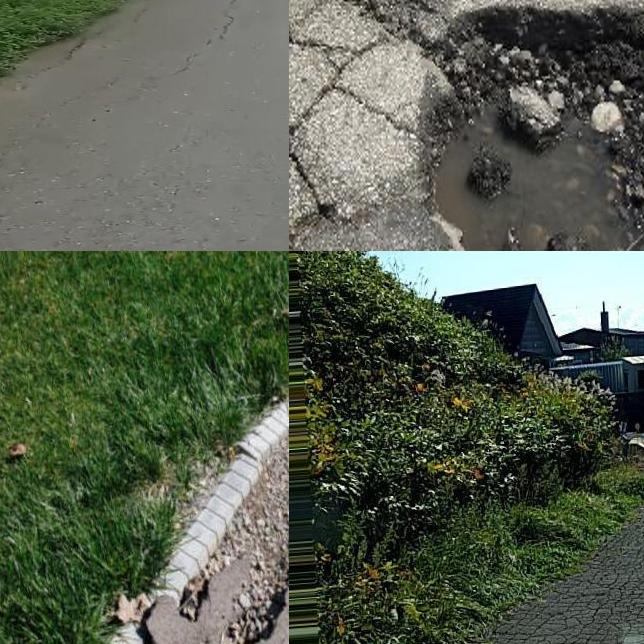Lubang: (411, 6, 644, 251)
Pinggir: (71, 374, 289, 644)
